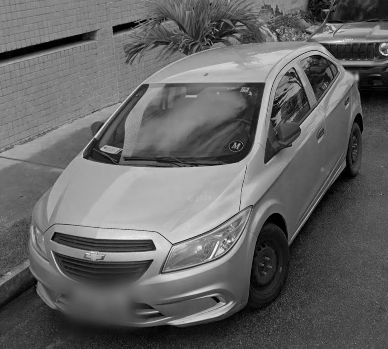car: (31, 42, 366, 319)
